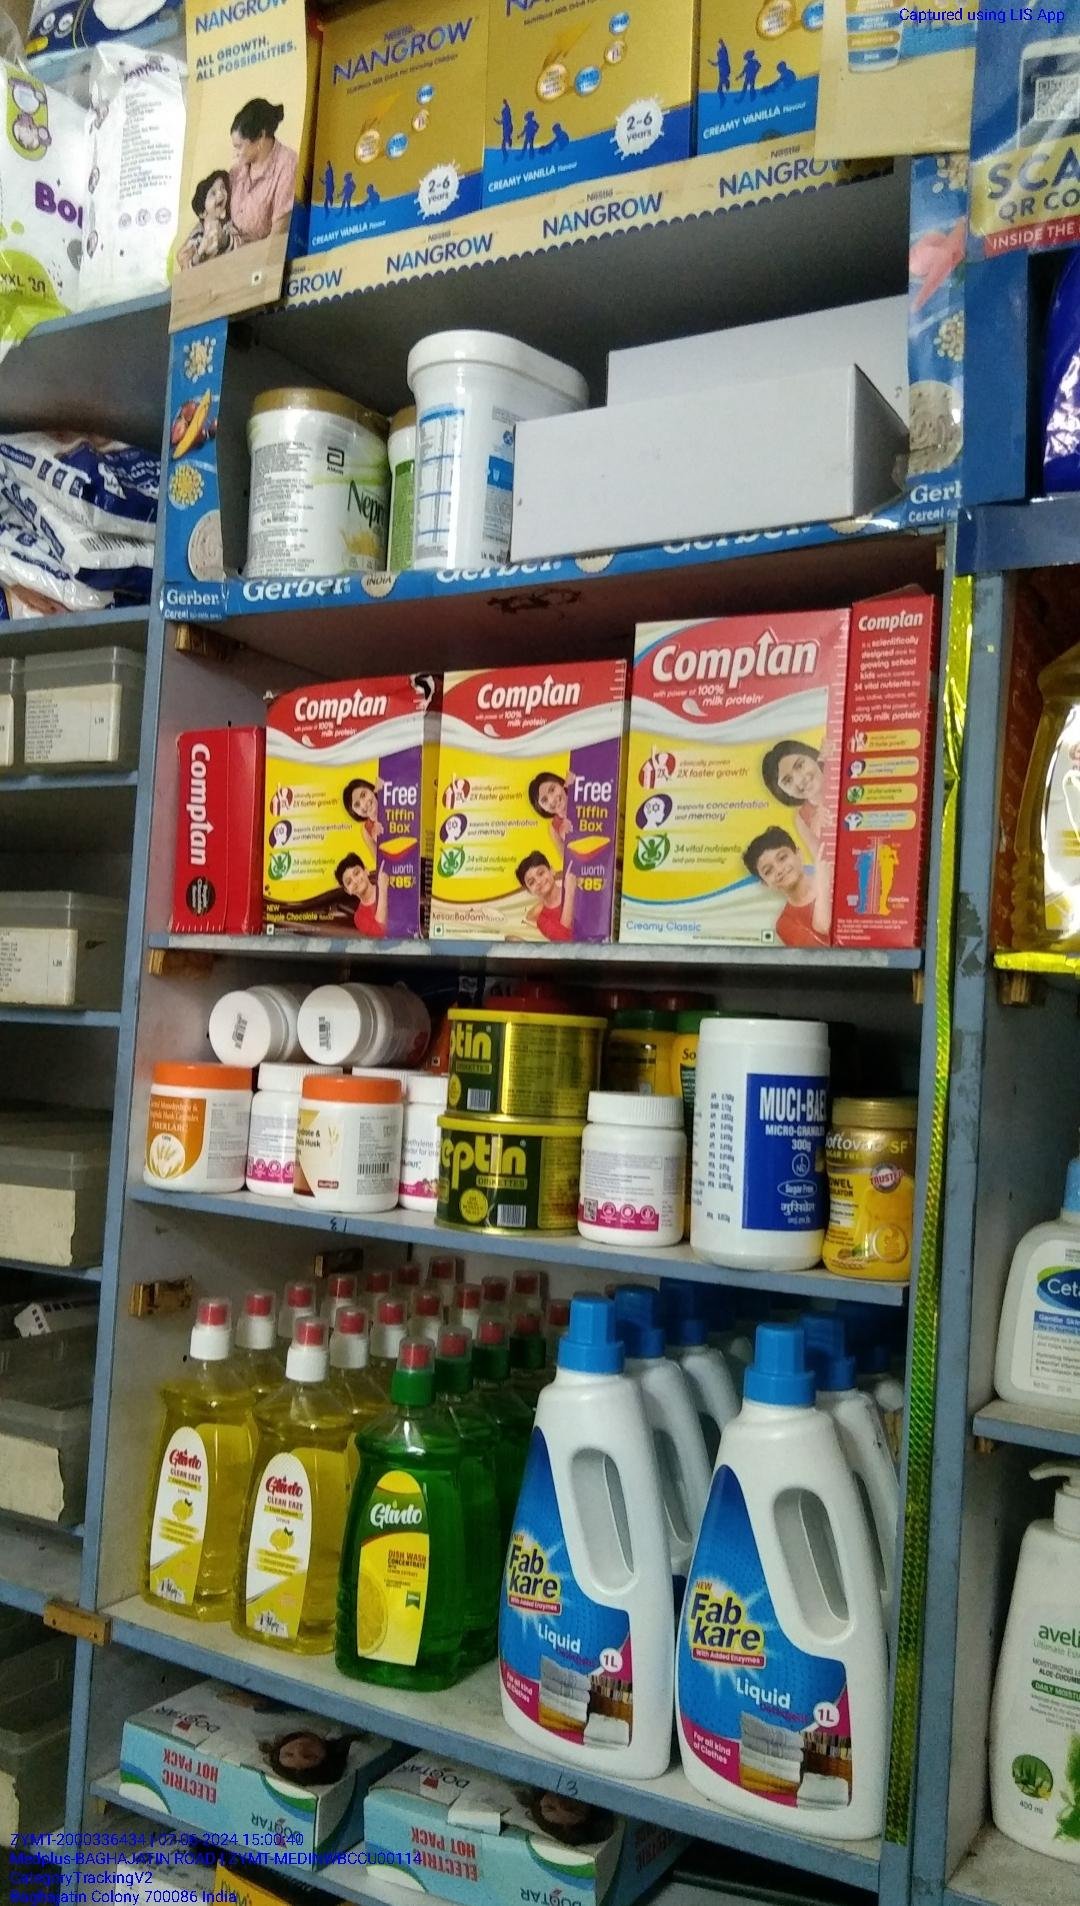COMPLAN_CHOCOLATE_500_GMS_PACK: (264, 692, 424, 939)
COMPLAN_CREAMY_CLASSIC_500_G_PACK: (624, 617, 829, 944)
COMPLAN_KESAR_BADAM_500_GMS_PACK: (431, 675, 617, 944)
